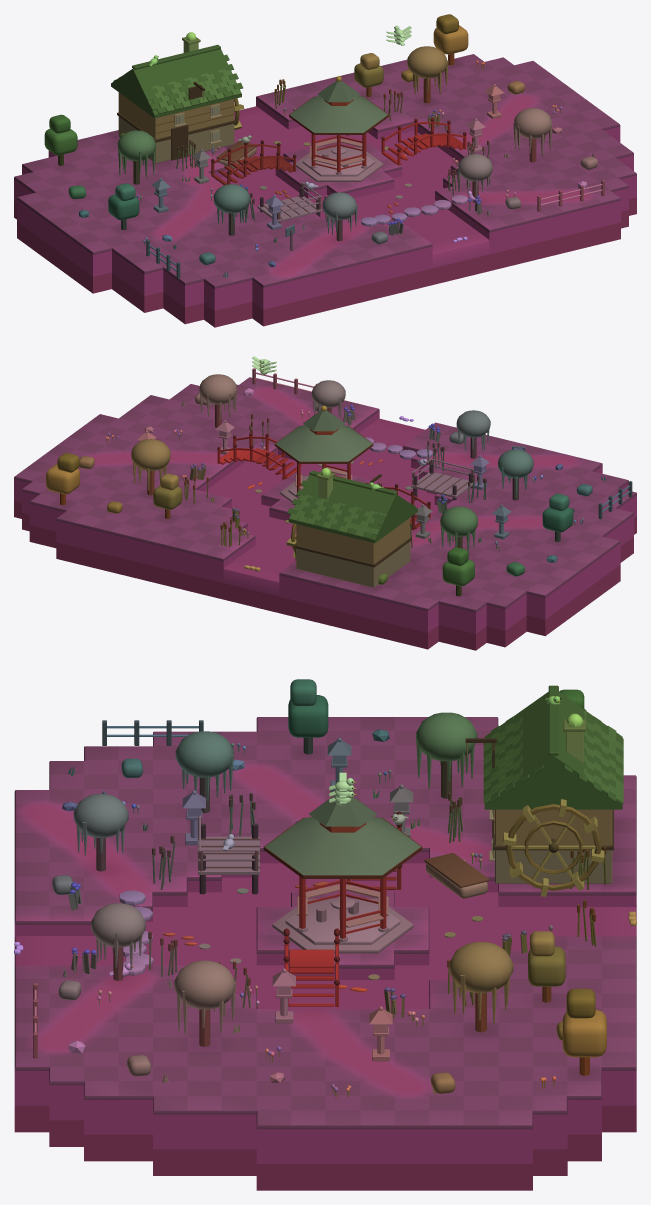
The model's file is river_1.glb.
3 views of the same model, one above another, from view 1: azimuth 30°, elevation 25°; view 2: azimuth 150°, elevation 25°; view 3: azimuth 270°, elevation 25° (orthographic). The views are drawn at different scales.
Parts seen in each view (by area): view 1: Terrain.001, Buildings, Trees, Props, Greenery; view 2: Terrain.001, Buildings, Trees, Props, Greenery; view 3: Terrain.001, Buildings, Trees, Props, Greenery.
Boxes of the visible parts, x1,y1,x2,y2 form: Terrain.001: (14, 54, 636, 327); Buildings: (111, 37, 388, 181); Trees: (44, 14, 552, 240); Props: (79, 25, 604, 278); Greenery: (68, 60, 598, 277); Terrain.001: (14, 377, 636, 650); Buildings: (274, 405, 417, 587); Trees: (46, 374, 573, 596); Props: (137, 356, 632, 571); Greenery: (55, 393, 606, 584); Terrain.001: (14, 717, 636, 1190); Buildings: (263, 685, 623, 953); Trees: (73, 679, 606, 1075); Props: (14, 696, 636, 1082); Greenery: (52, 743, 606, 1098).
Size of the model in its own units: 28 by 8.37 by 18.04.
50 materials, 1 textured.
